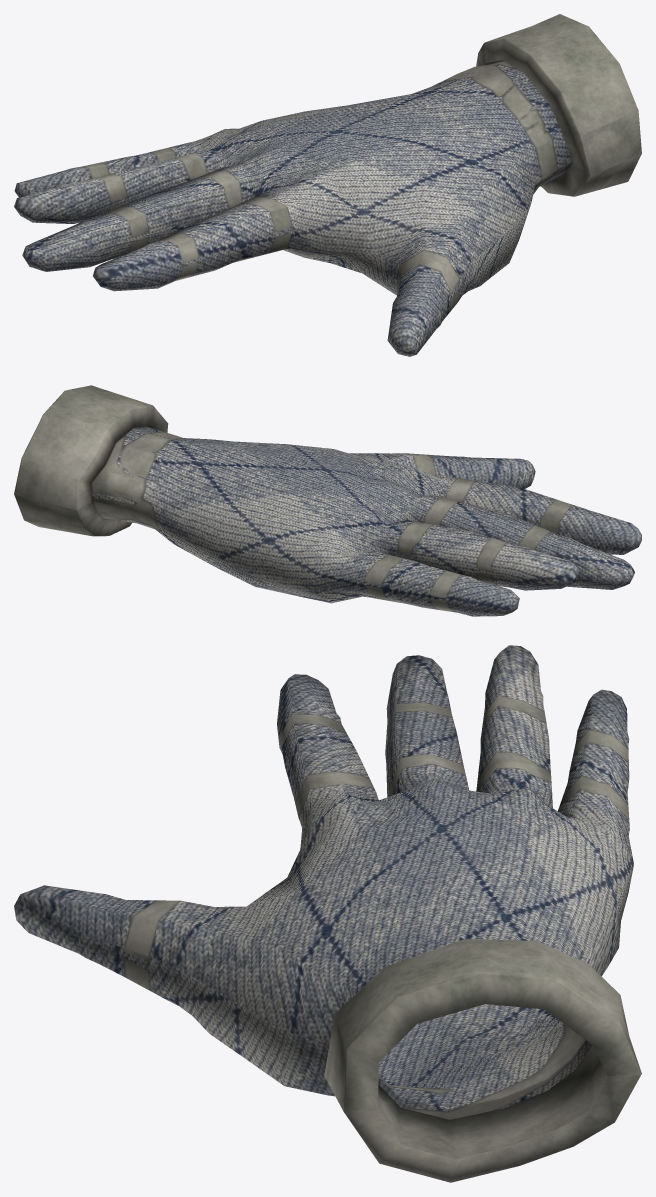
File: wool_gloves.glb
3 views of the same model, one above another, from view 1: azimuth 30°, elevation 25°; view 2: azimuth 150°, elevation 25°; view 3: azimuth 270°, elevation 25° (orthographic). The views are drawn at different scales.
Parts seen in each view (by area): view 1: wool_gloves_export; view 2: wool_gloves_export; view 3: wool_gloves_export.
Boxes of the visible parts, x1=… form: wool_gloves_export: x1=14, y1=14, x2=641, y2=356; wool_gloves_export: x1=14, y1=385, x2=641, y2=616; wool_gloves_export: x1=14, y1=645, x2=641, y2=1182.
Bounding box in the file's own units: 0.1914 × 0.0507 × 0.1208.
Materials: 1 (1 with a texture image).
